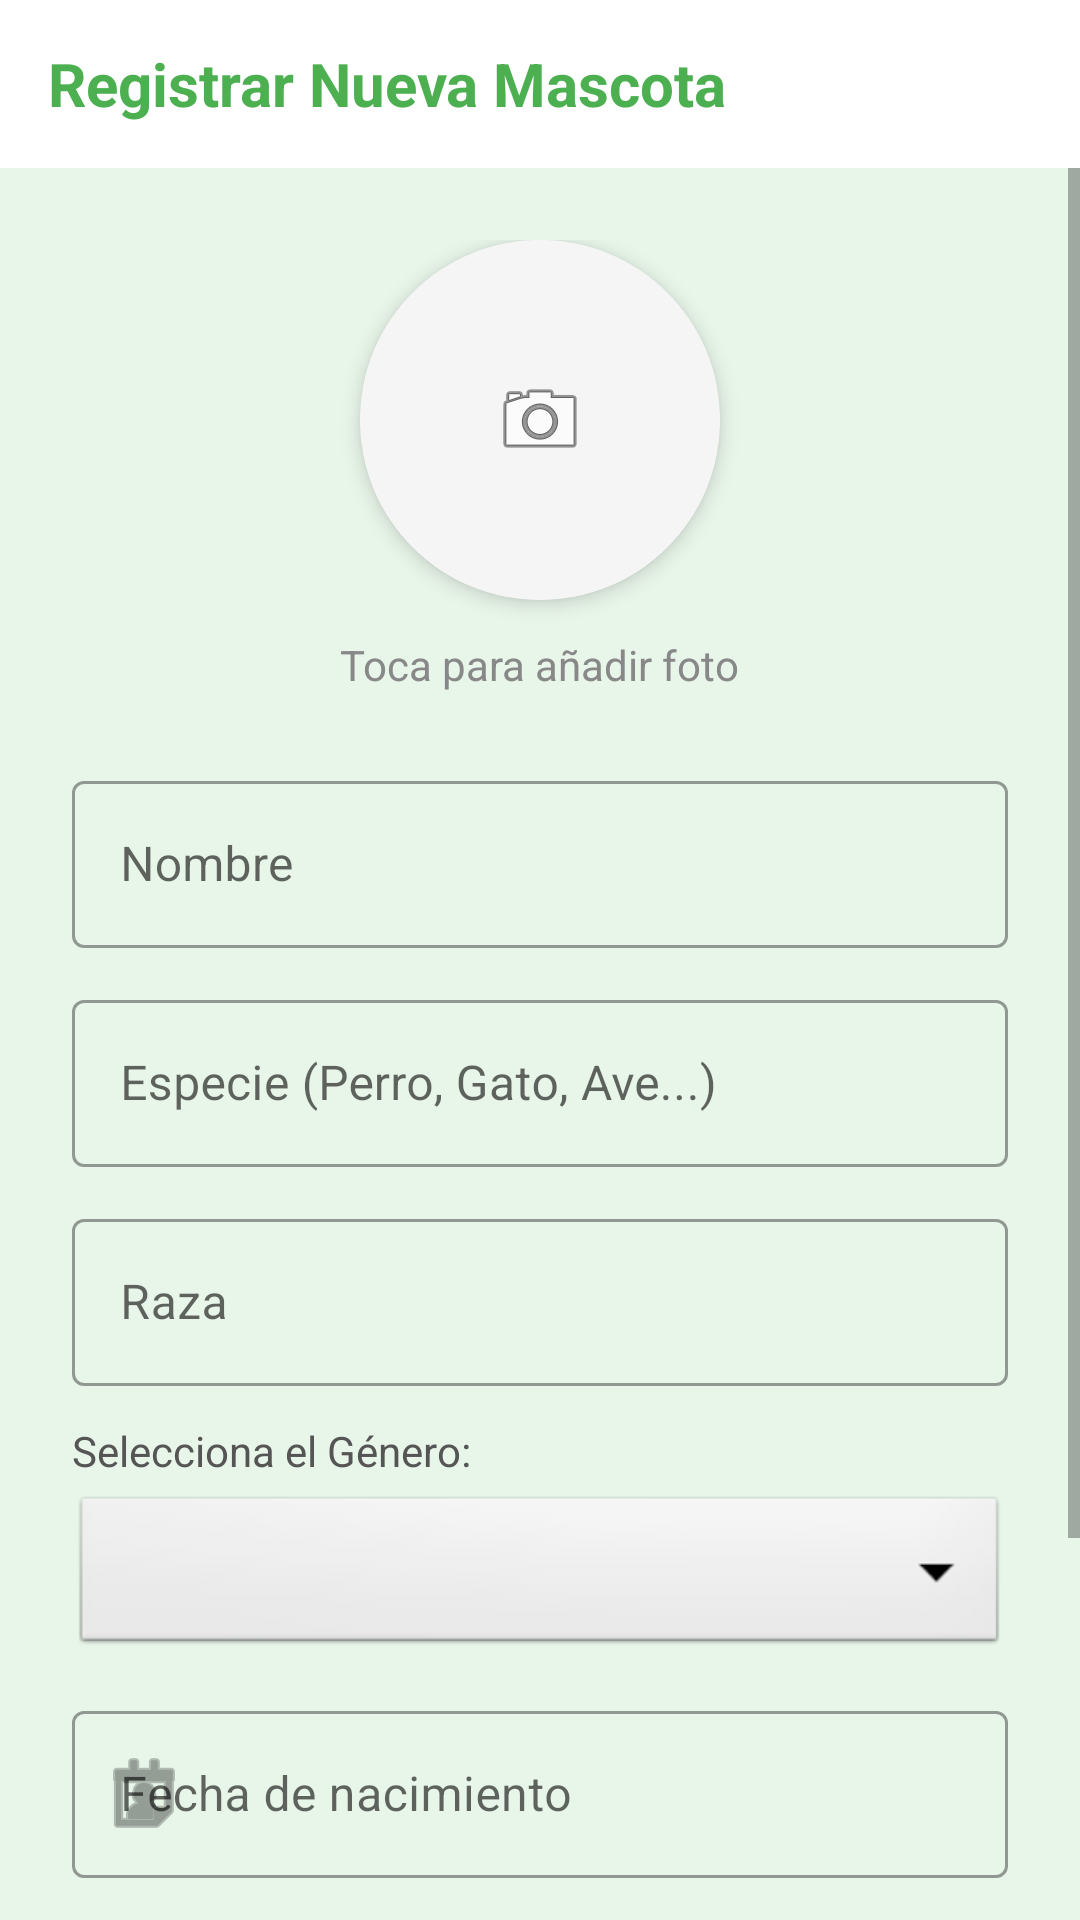

Screen size 1080px×1920px. Icon name, then its box in pixels as (x1, y1, x2, y2):
camera: (360, 240, 720, 600)
